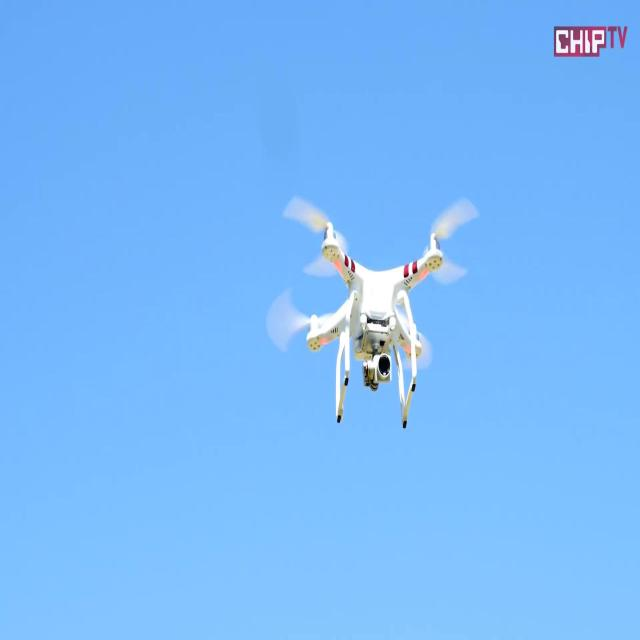drone: (286, 200, 456, 431)
